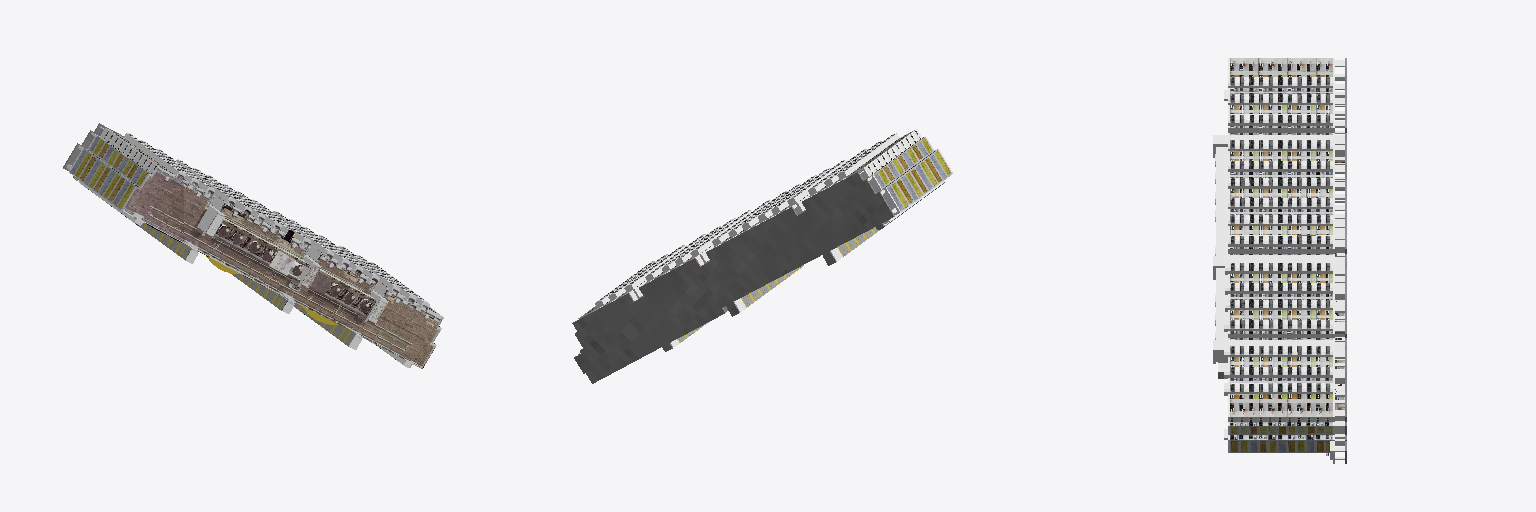
3 views of the same model, side by side, from view 1: azimuth 30°, elevation 25°; view 2: azimuth 150°, elevation 25°; view 3: azimuth 270°, elevation 25° (orthographic).
Parts seen in each view (by area): view 1: polygon.761; view 2: polygon.761; view 3: polygon.761.
Part boxes in pixels (left/top/right/bottom): polygon.761: left=63, top=123, right=443, bottom=368; polygon.761: left=572, top=129, right=953, bottom=383; polygon.761: left=1213, top=58, right=1346, bottom=463.
Size of the model in its own units: 106 by 86.48 by 38.05.
Materials: 1 (1 with a texture image).